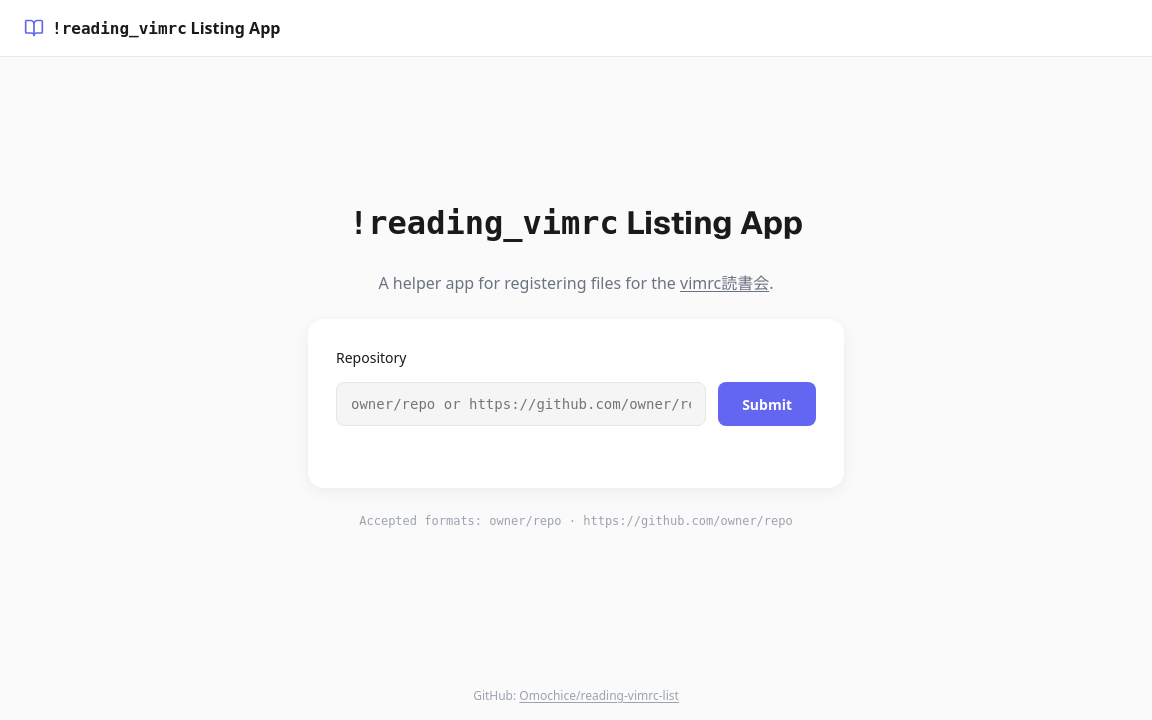
Test case: integration smoke tests › tree screen renders repo info and tree card
Type "vim/vim" into the field. click: (521, 404)
box: [336,382,706,426]
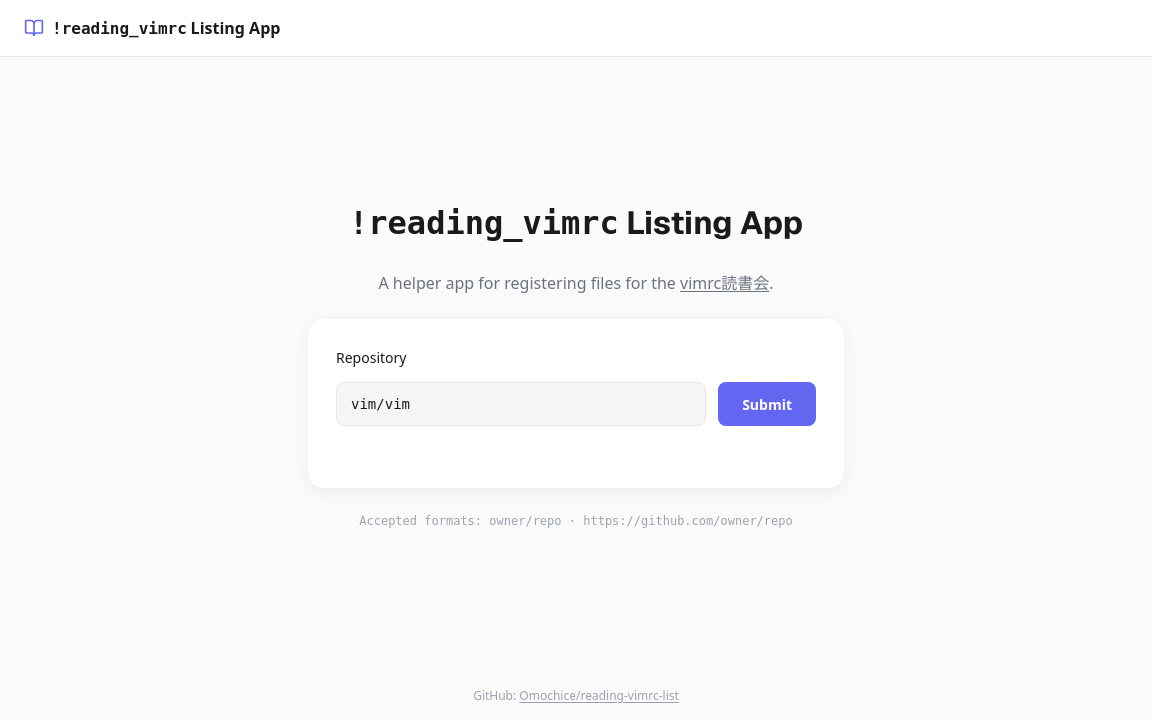
Submit the form, box [336,382,816,426]
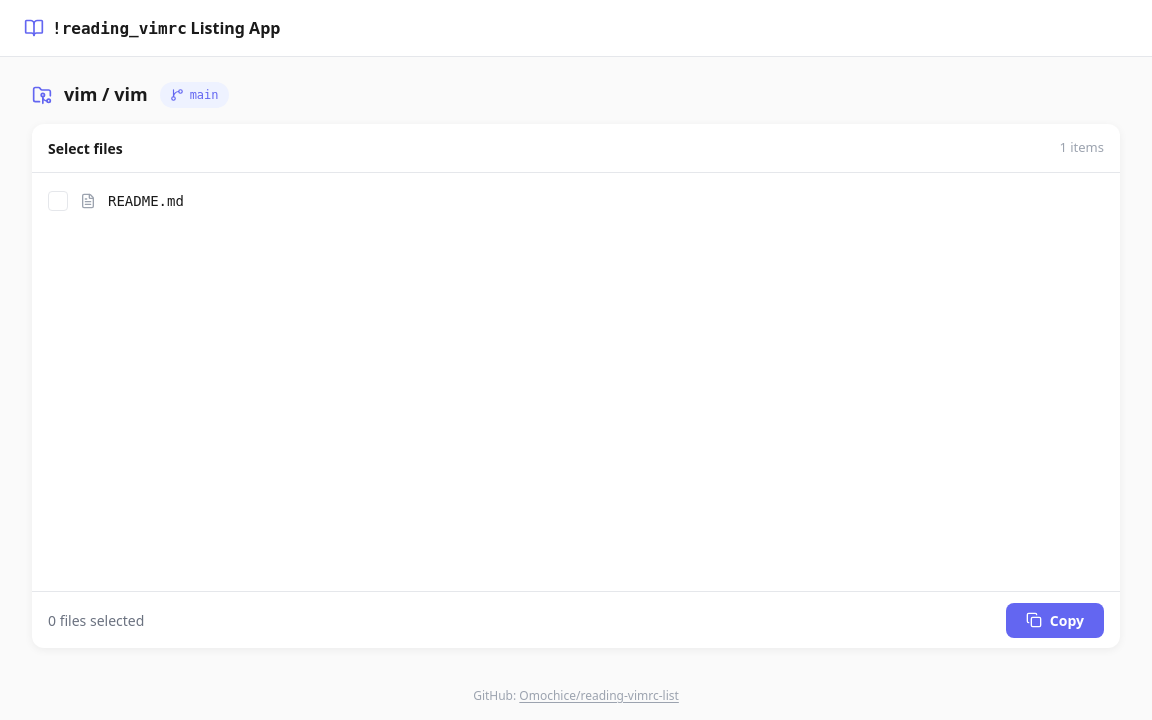
Expected: the text "Select files" is shown, [48,138,123,158]
Expected: the text "main" is shown, [190,86,218,104]
Expected: the text "README.md" is shown, [108,190,184,212]
